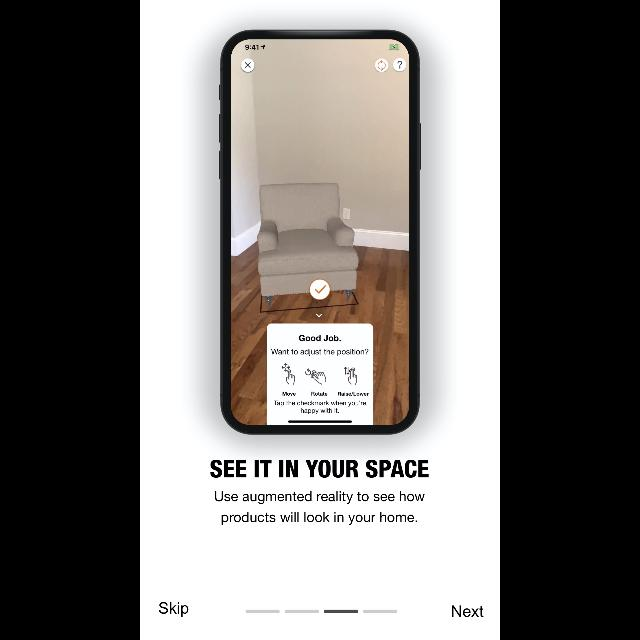image: (219, 29, 423, 434)
pageindicator: (246, 609, 398, 613)
text: (215, 491, 425, 525), (211, 460, 429, 478), (160, 602, 188, 616), (452, 605, 483, 617)
